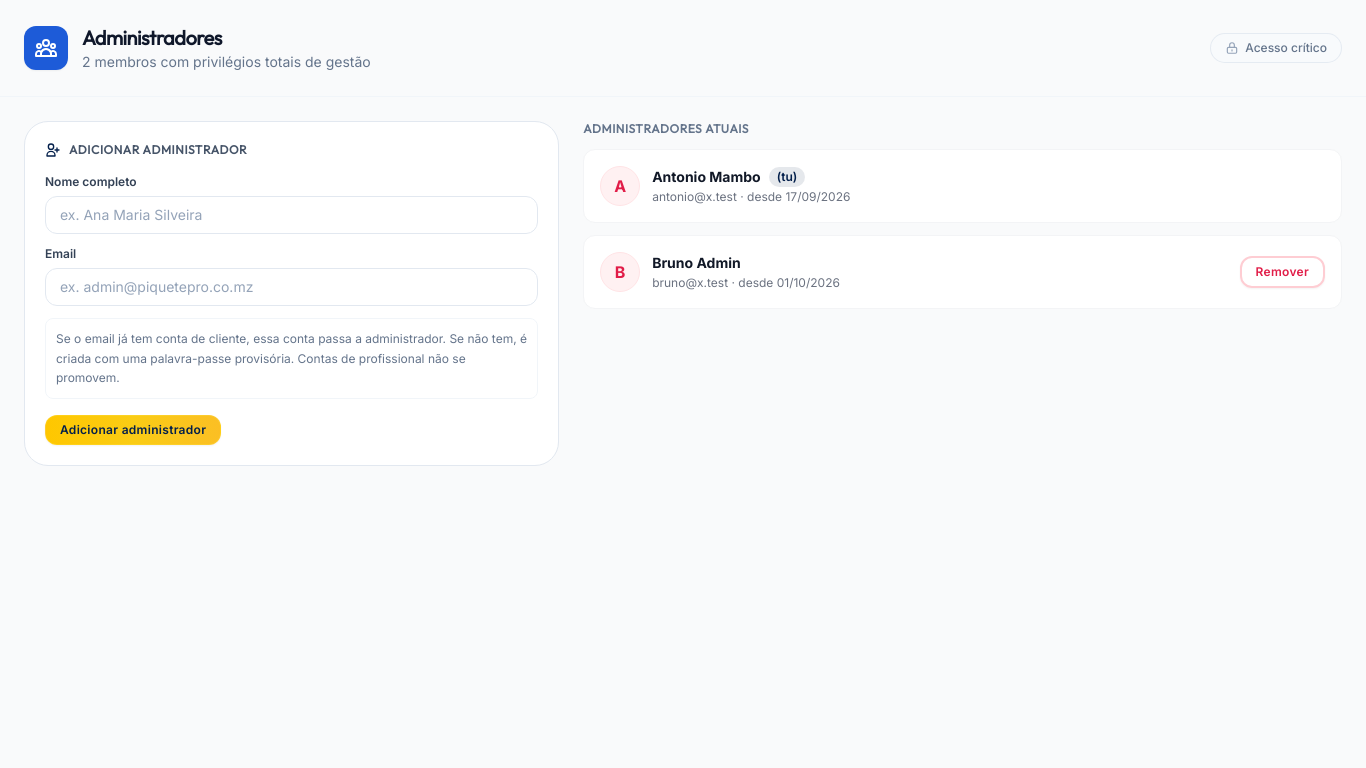
AdminAdmins — adicionar › conta nova: mostra a palavra-passe provisória uma vez, com aviso, e deixa fechar
The image size is (1366, 768).
Type " Novo Admin " into the field labelled "Nome completo".
click(292, 215); type(" Novo Admin ")  # box [45,196,538,234]
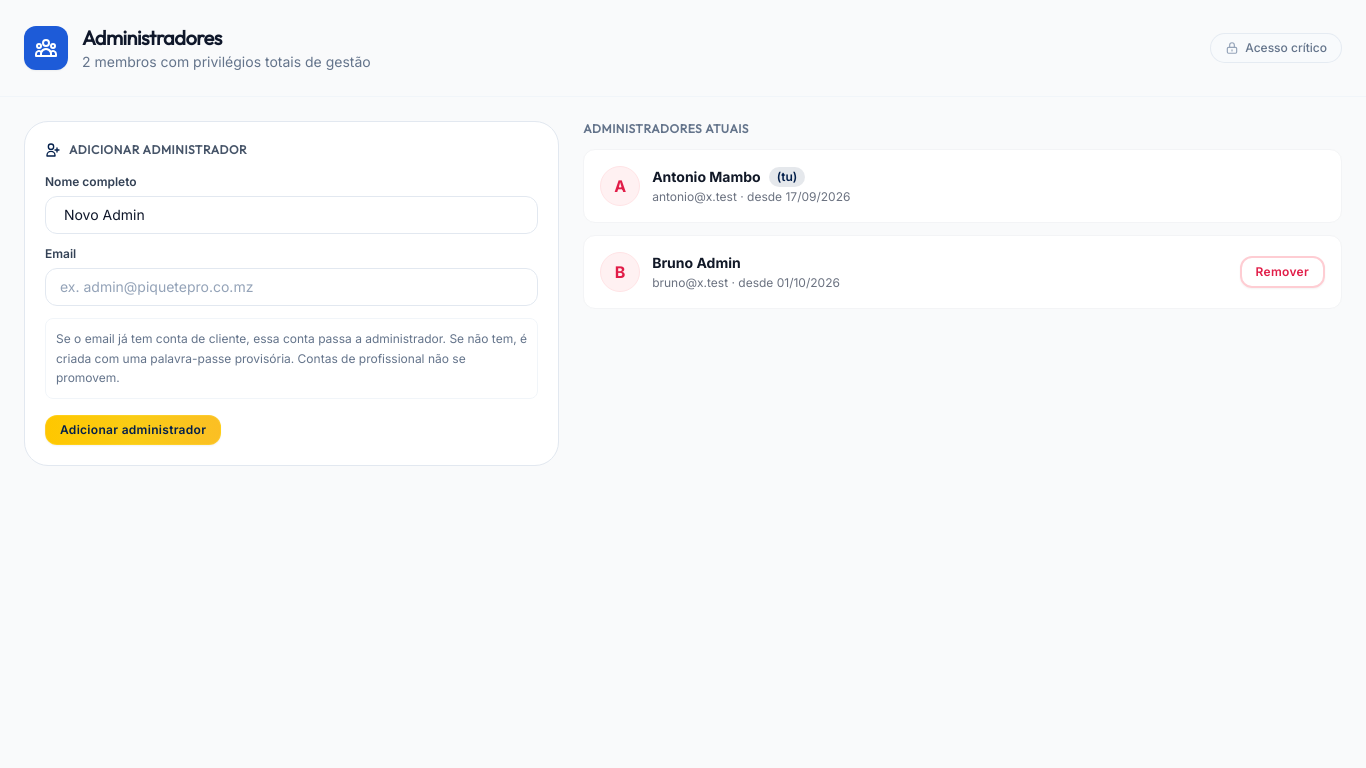
Type " novo@x.test " into the field labelled "Email".
click(292, 287); type(" novo@x.test ")  # box [45,268,538,306]
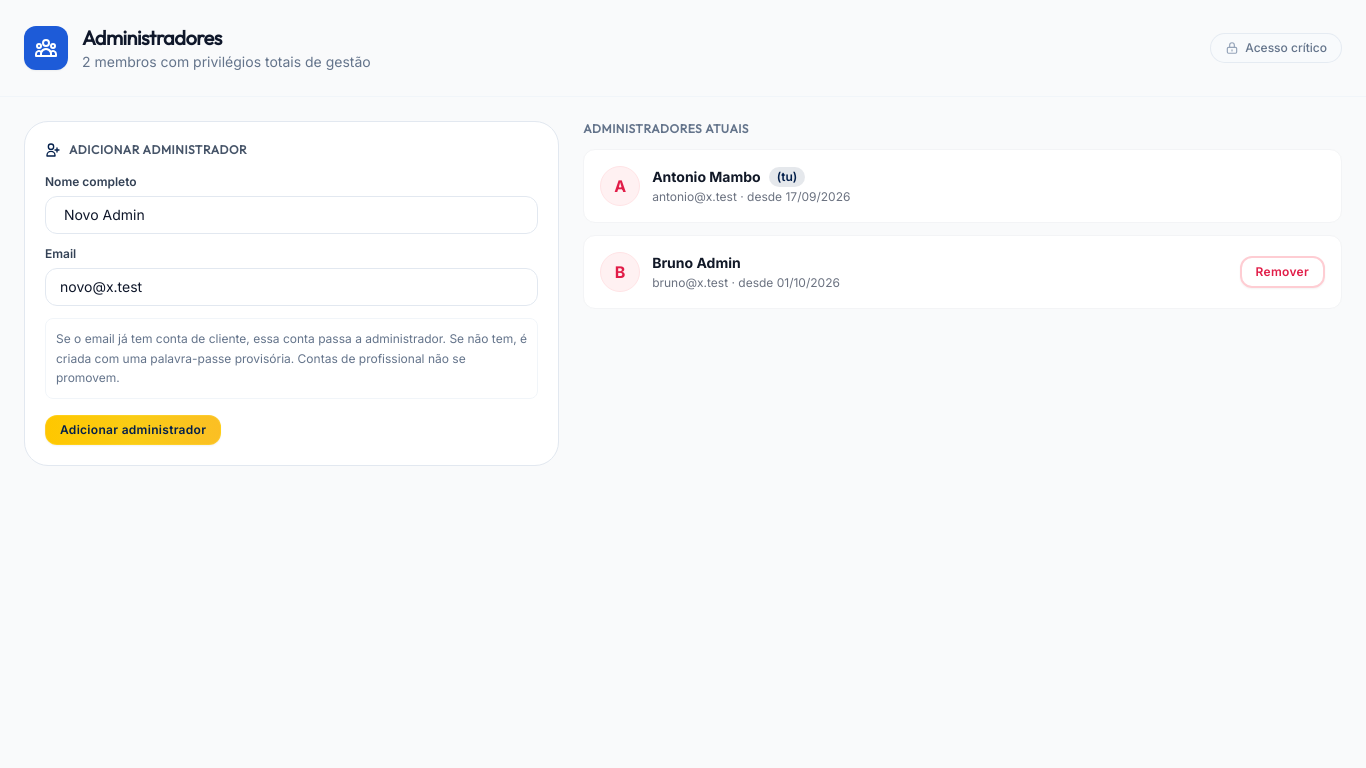
Click the button "Adicionar administrador".
click(133, 430)  # box [45,414,221,444]
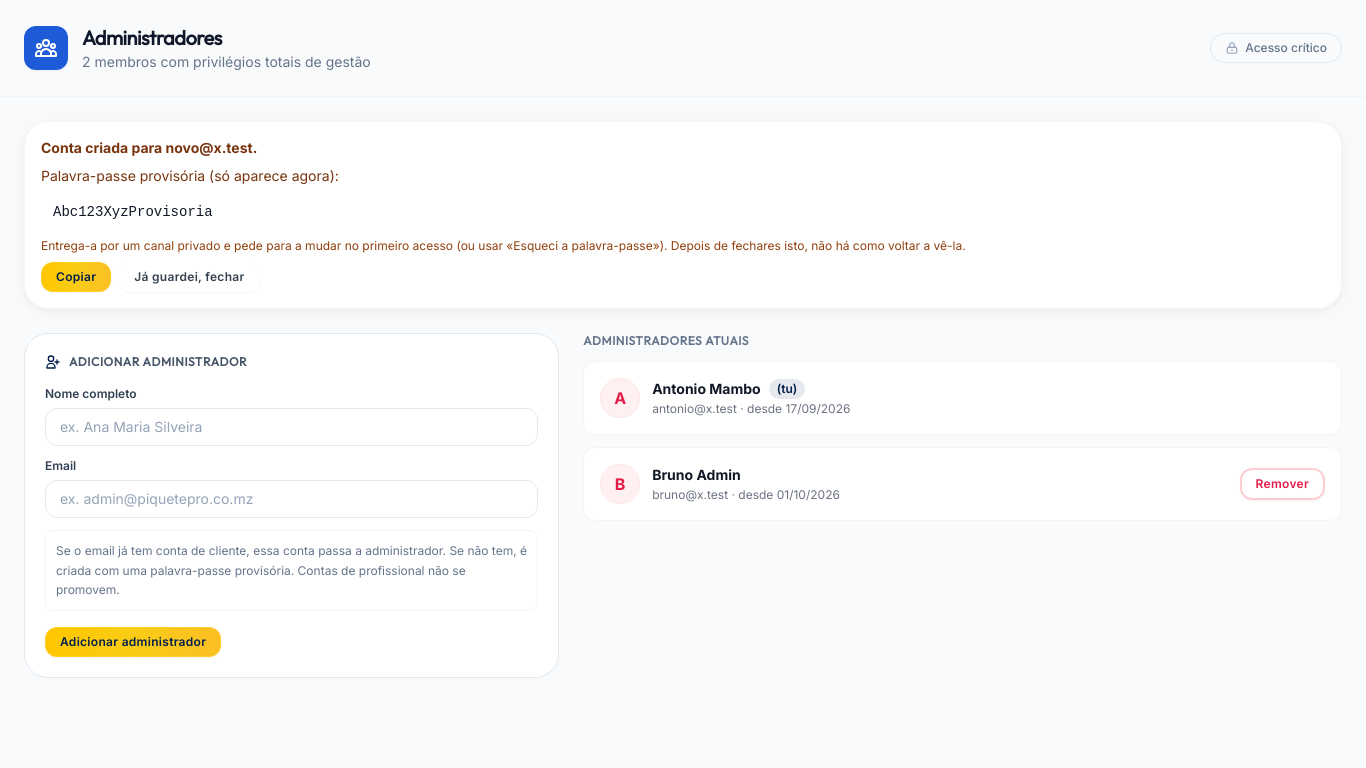
Result: the text "Abc123XyzProvisoria" is shown at [41,194,1325,230]
Result: the text "Palavra-passe provisória (só aparece agora):" is shown at [41,167,339,184]
Click the button "Já guardei, fechar".
click(189, 277)  # box [119,262,260,292]
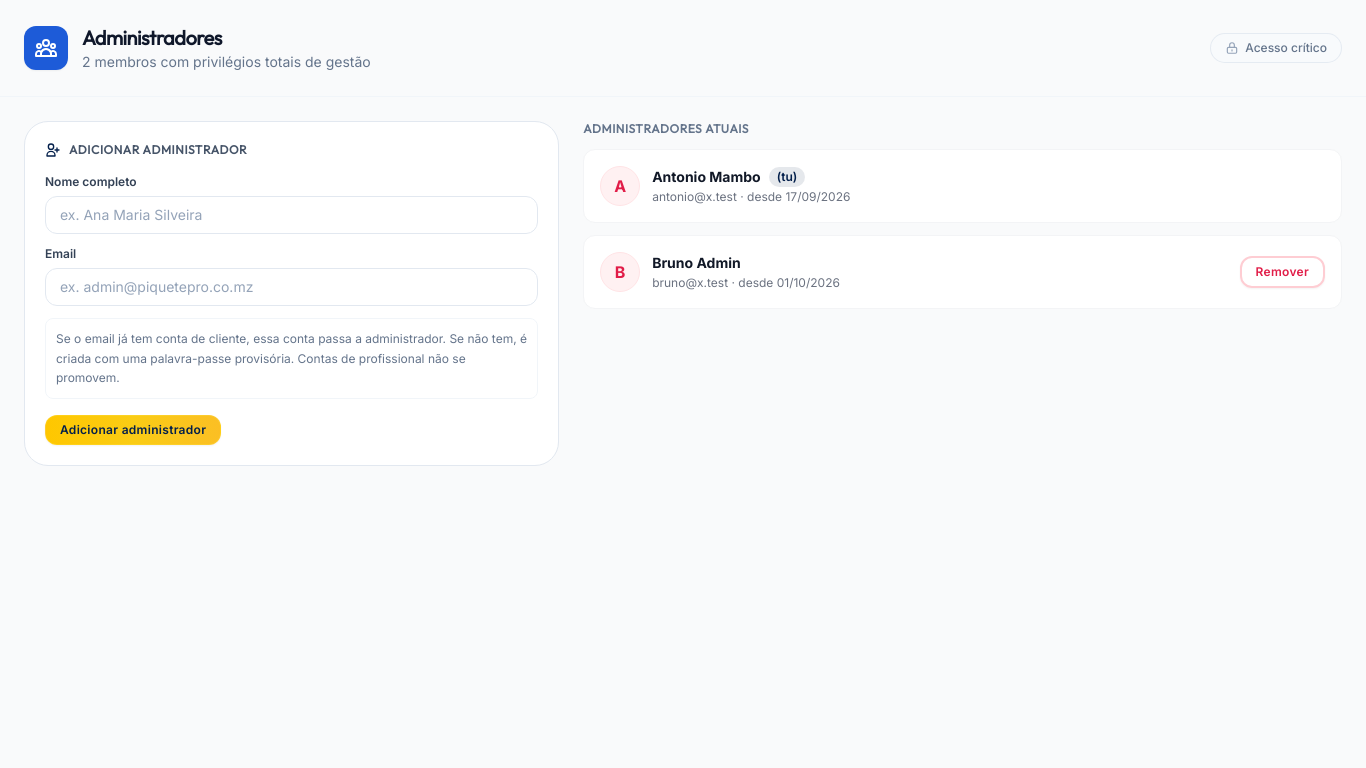
Result: the text "Abc123XyzProvisoria" is gone
